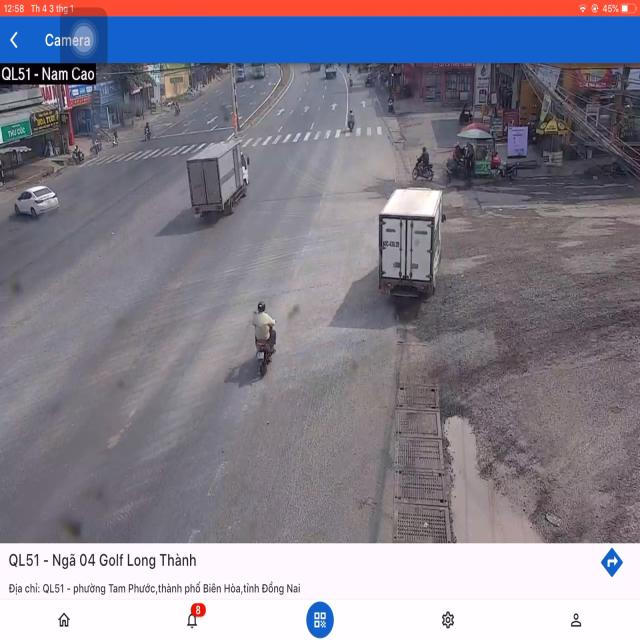car: (10, 184, 59, 220)
motorbike: (252, 300, 279, 378), (413, 150, 435, 180)
truck: (380, 184, 442, 299), (186, 138, 246, 222)
